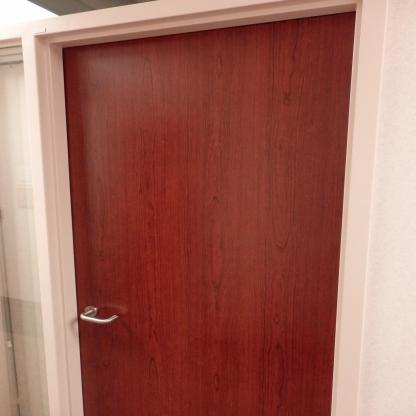door: (61, 17, 347, 415)
lever: (79, 302, 119, 328)
